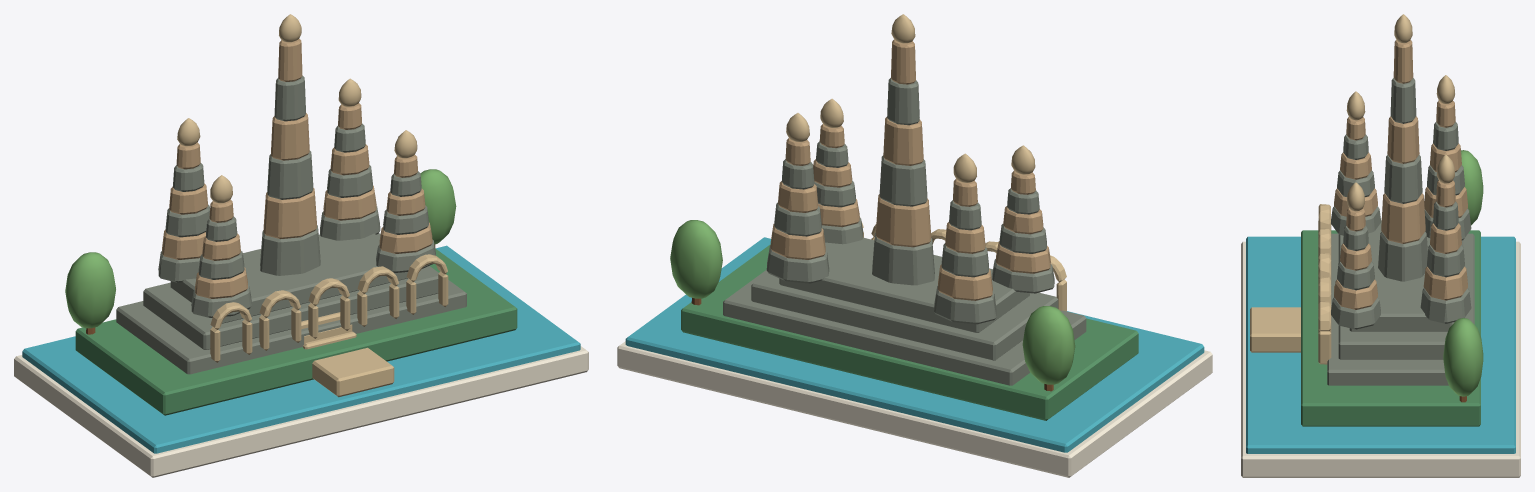
The model's file is angkor-wat.glb.
The picture shows the model from 3 angles, left to right: view 1: azimuth 30°, elevation 25°; view 2: azimuth 150°, elevation 25°; view 3: azimuth 270°, elevation 25°; orthographic projection. The views are drawn at different scales.
Visible parts, largest first — view 1: Angkor Wat; view 2: Angkor Wat; view 3: Angkor Wat.
Part boxes in pixels (x1,y1,x2,y2): Angkor Wat: (14,14,588,477); Angkor Wat: (617,14,1212,477); Angkor Wat: (1241,14,1520,477).
Bounding box in the file's own units: 1.47 × 1.13 × 0.8064.
